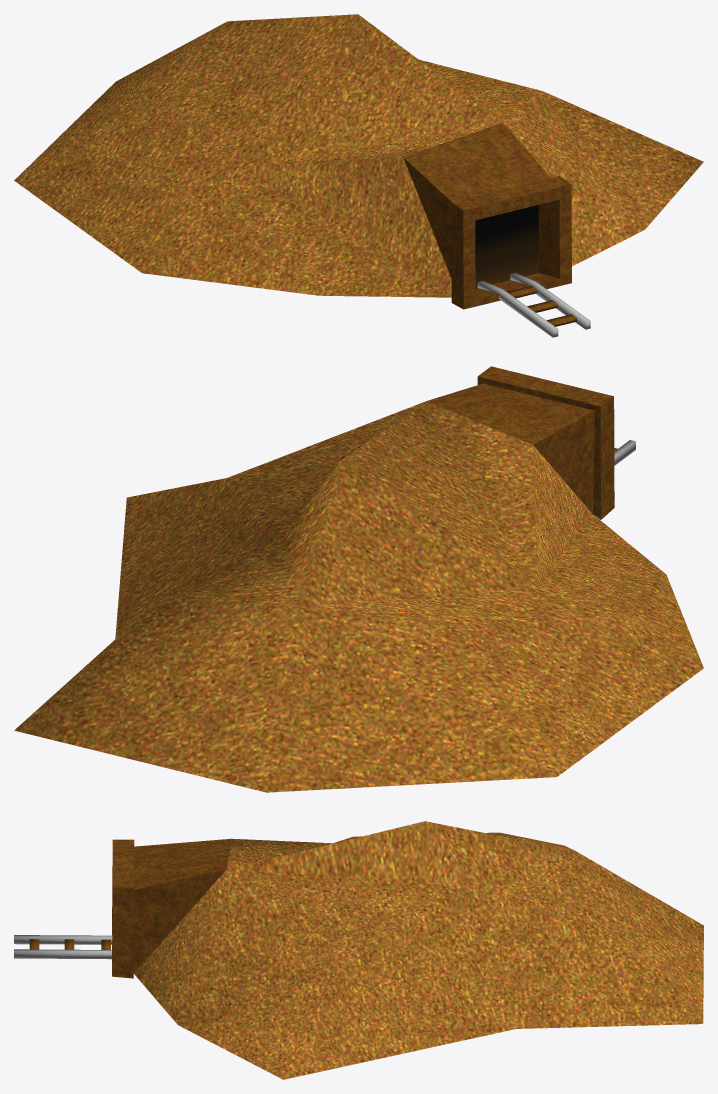
Rendered from mine3.gltf.
3 renders of one model, top to bottom at view 1: azimuth 30°, elevation 25°; view 2: azimuth 150°, elevation 25°; view 3: azimuth 270°, elevation 25°, orthographic. The views are drawn at different scales.
Visible parts, largest first — view 1: something; view 2: something; view 3: something.
Boxes of the visible parts, box(x1,y1,x2,y2) form: something: box(14, 14, 703, 337); something: box(14, 366, 703, 792); something: box(14, 821, 703, 1079).
Size of the model in its own units: 3.41 by 0.9662 by 4.21.
1 material, 1 textured.
